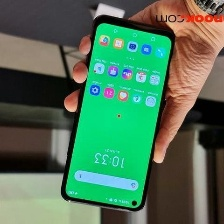phone: (58, 11, 177, 215)
